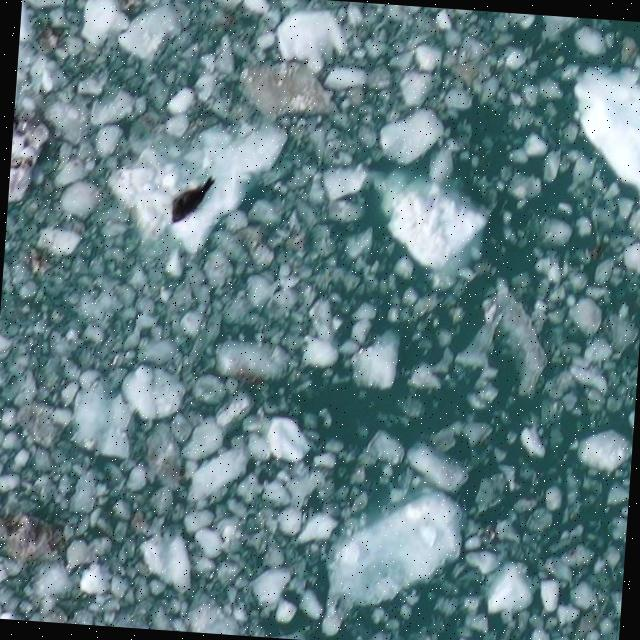seal: (169, 173, 215, 222)
